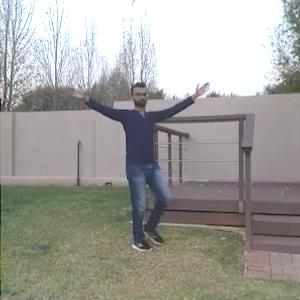takeoff: (55, 75, 207, 259)
